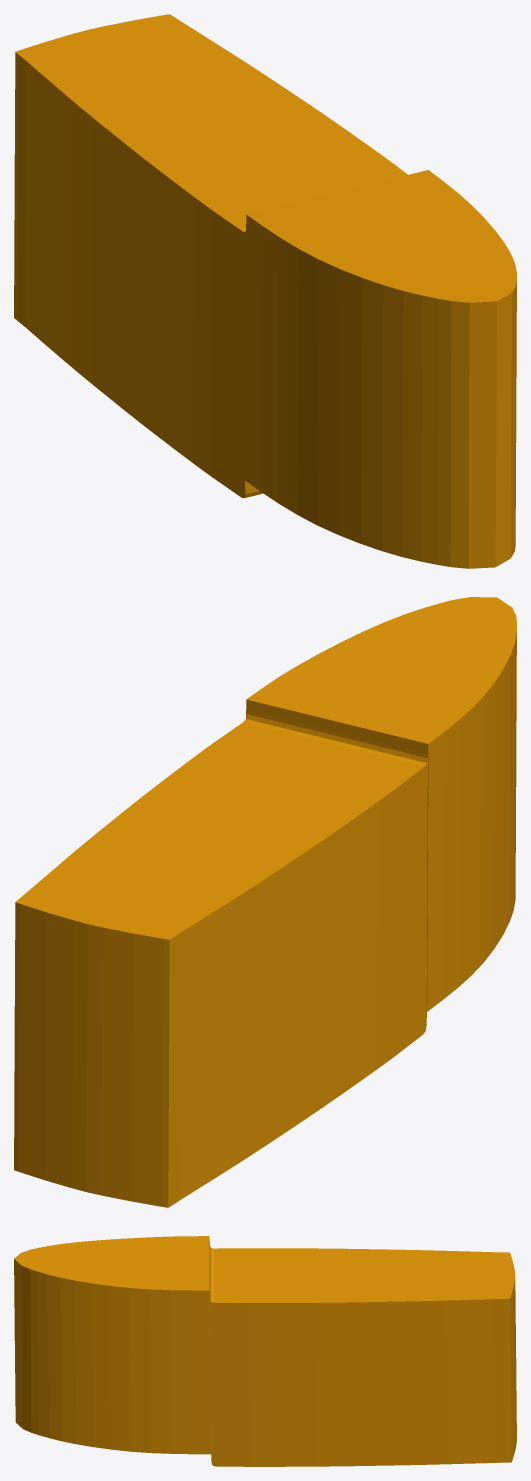
The model's file is Yacht_MyEdit_v2_HullBlock.fbx.
3 views of the same model, one above another, from view 1: azimuth 30°, elevation 25°; view 2: azimuth 150°, elevation 25°; view 3: azimuth 270°, elevation 25° (orthographic). The views are drawn at different scales.
Visible parts, largest first — view 1: Hull_Block; view 2: Hull_Block; view 3: Hull_Block.
Boxes of the visible parts, x1=… form: Hull_Block: x1=14, y1=14, x2=516, y2=568; Hull_Block: x1=14, y1=597, x2=516, y2=1207; Hull_Block: x1=14, y1=1236, x2=516, y2=1466.
Size of the model in its own units: 69791 by 106979 by 269827.
